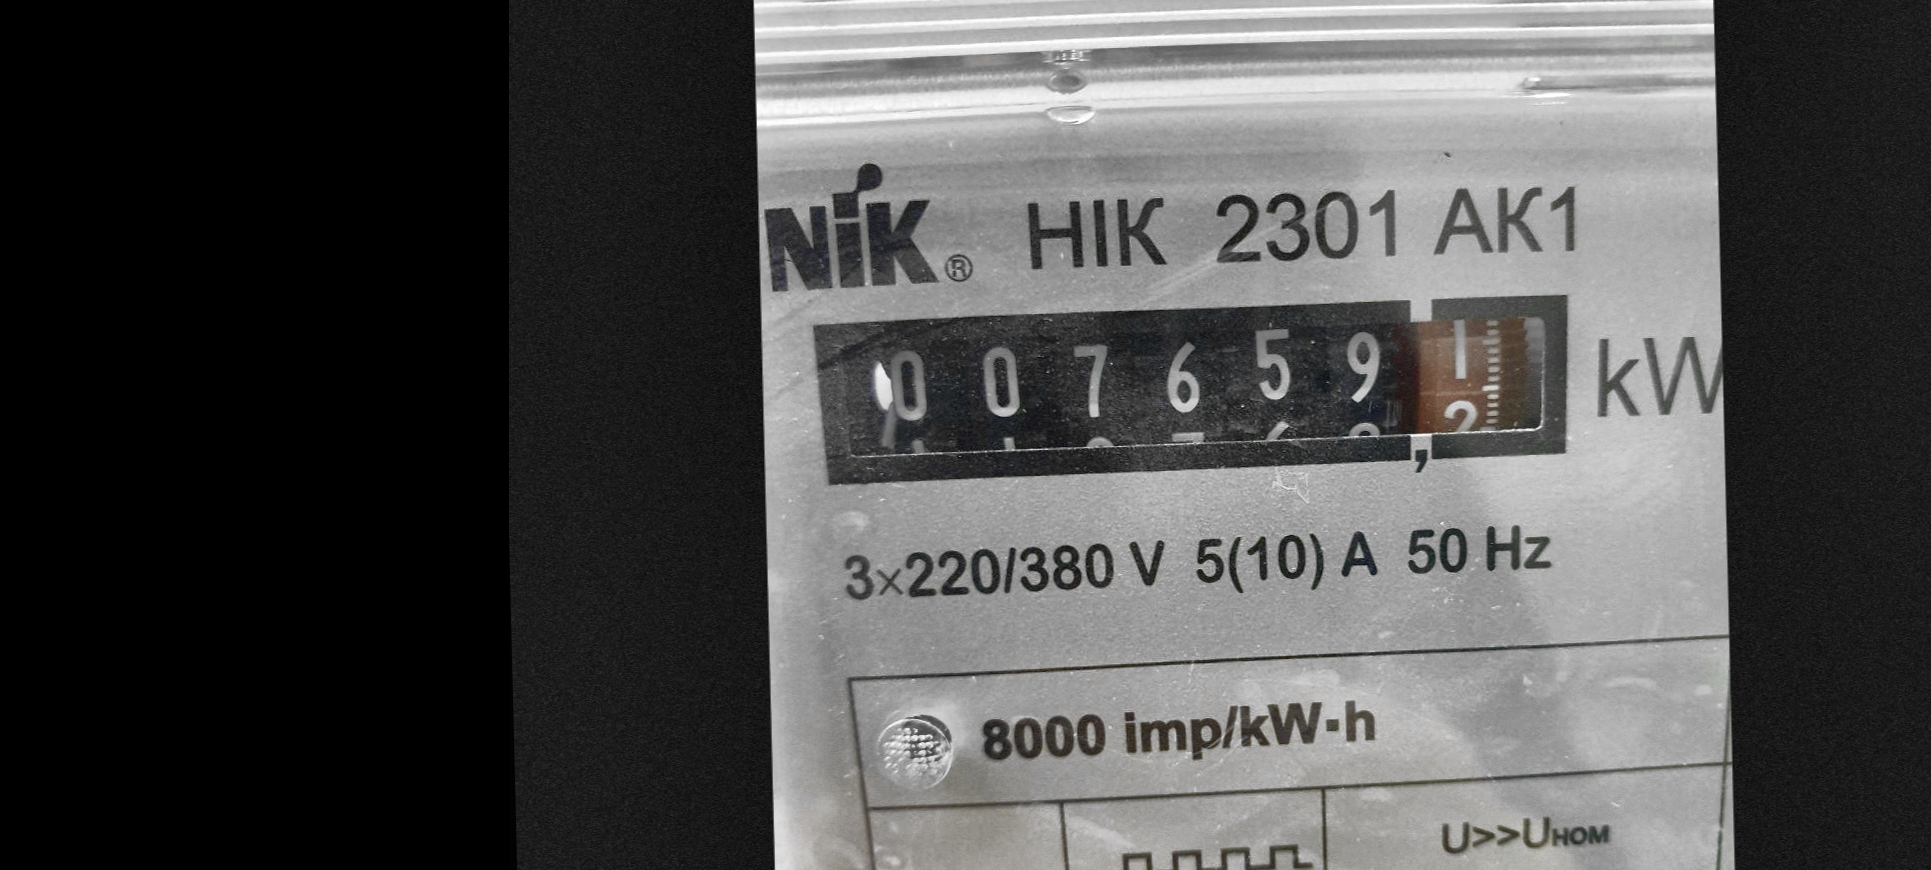0: (970, 338, 1028, 425), (882, 341, 933, 433)
1: (1443, 313, 1479, 389)
5: (1248, 323, 1296, 405)
6: (1155, 334, 1208, 419)
7: (1068, 339, 1112, 425)
9: (1341, 324, 1385, 413)
screen: (793, 274, 1592, 506)
